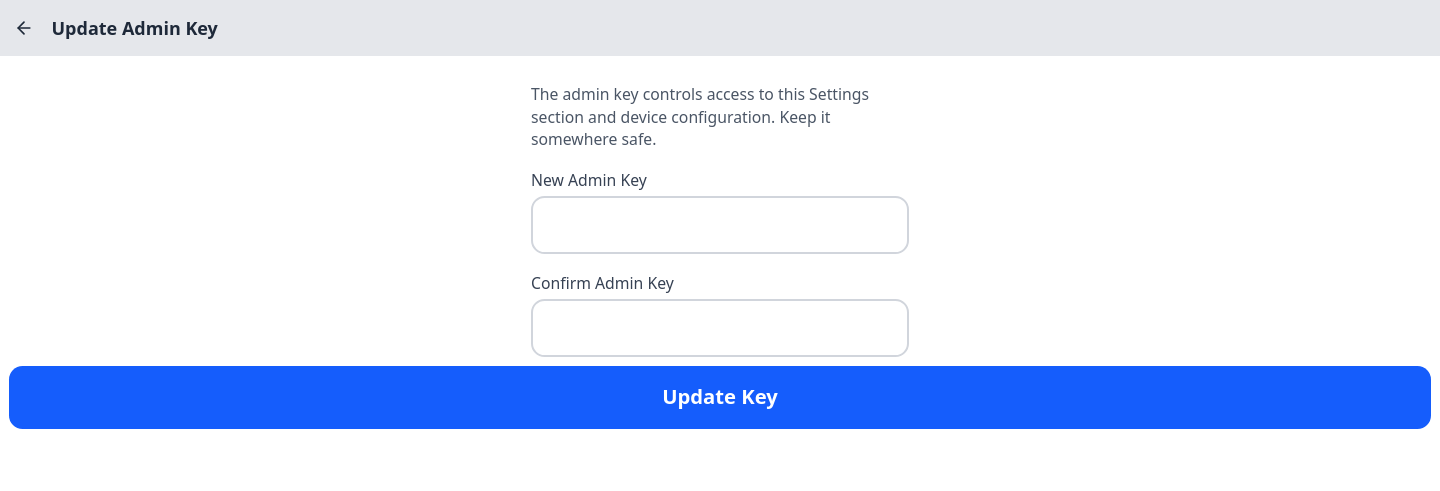
Test: UpdateAdminKeyPage › saves a valid key with the admin token and clears the fields
The image size is (1440, 491).
Type "newsecret" into the password field labelled "New Admin Key" at (720, 224), box x1=531 y1=196 x2=909 y2=254
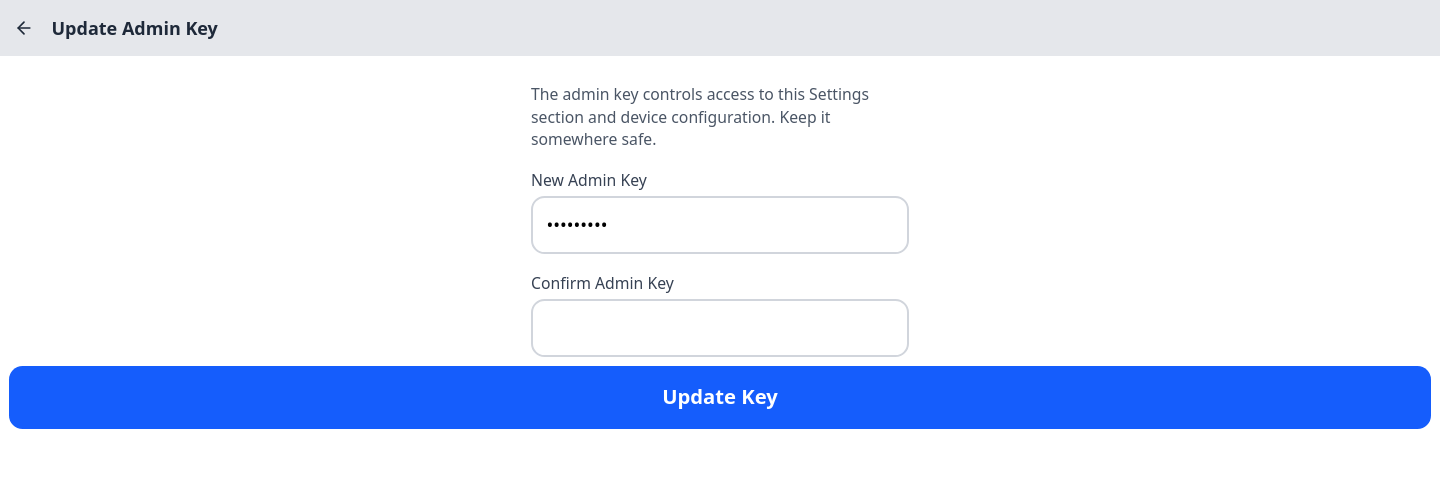
Type "newsecret" into the password field labelled "Confirm Admin Key" at (720, 328), box x1=531 y1=298 x2=909 y2=356
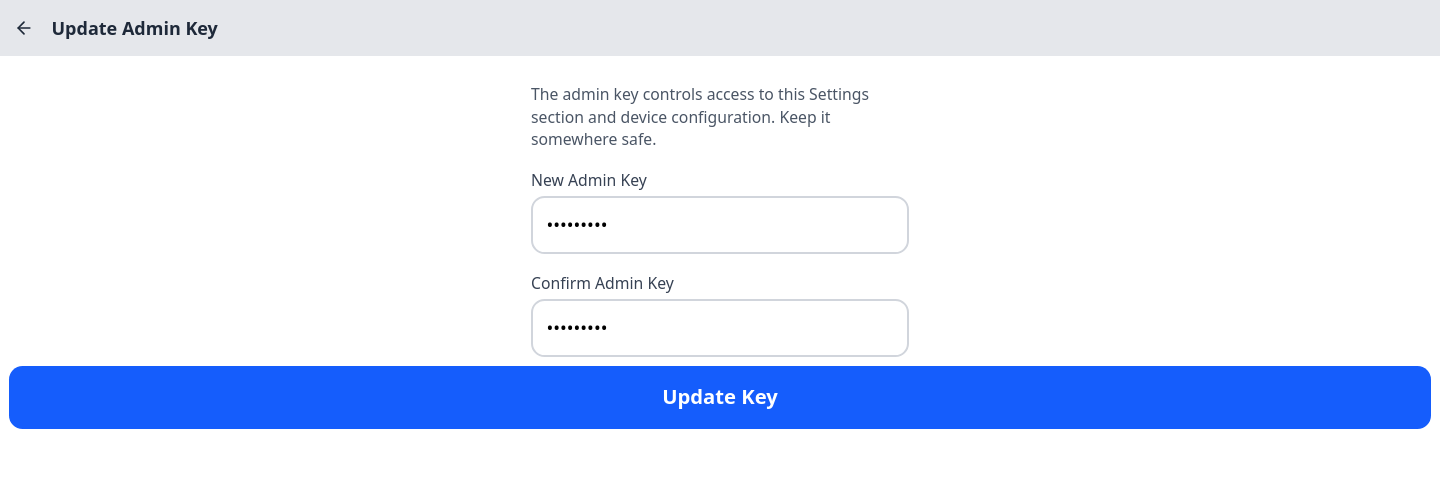
Click the button "Update Key" at (720, 397), box x1=9 y1=366 x2=1431 y2=428
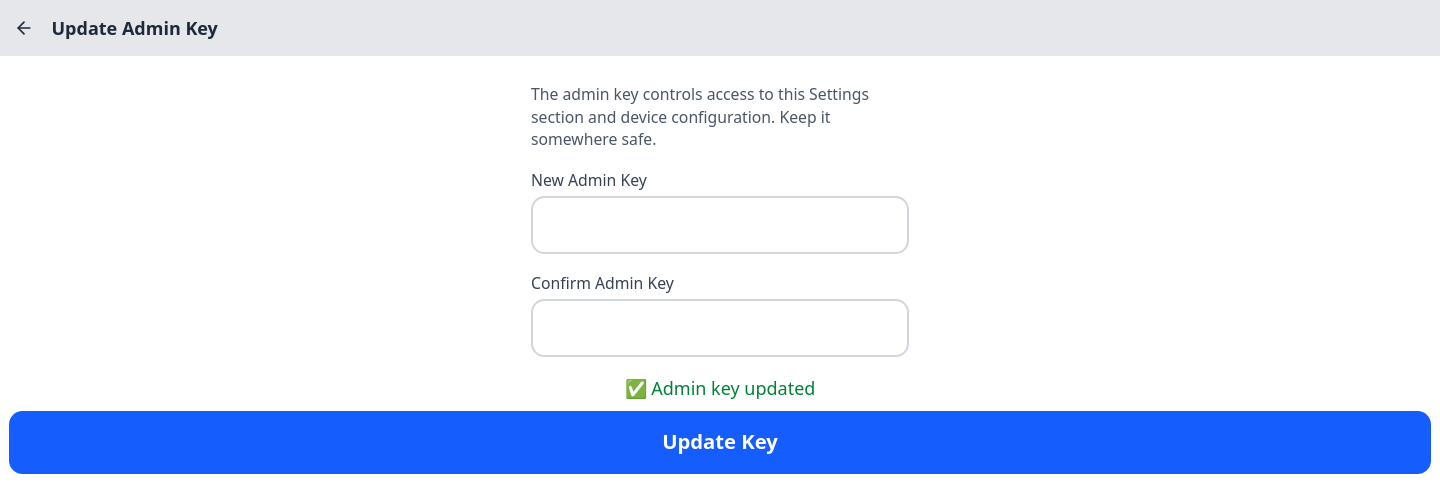
Expected: the text "✅ Admin key updated" is shown, x1=625 y1=376 x2=816 y2=400
Expected: the password field labelled "New Admin Key" is empty, x1=531 y1=196 x2=909 y2=254
Expected: the password field labelled "Confirm Admin Key" is empty, x1=531 y1=298 x2=909 y2=356
